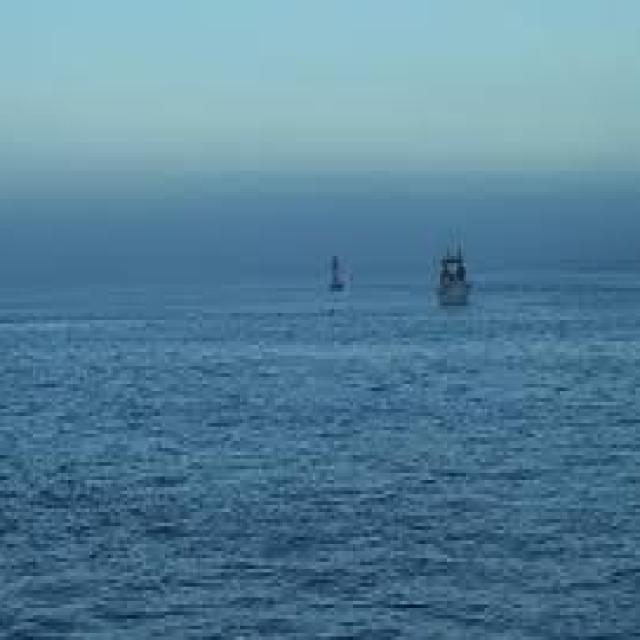fishing boat: (423, 249, 471, 315)
